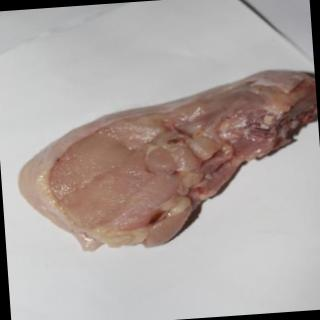Ayam: (9, 67, 320, 254)
